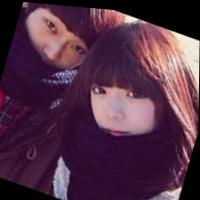NONE: (77, 69, 171, 158)
WRONG: (15, 6, 95, 92)
